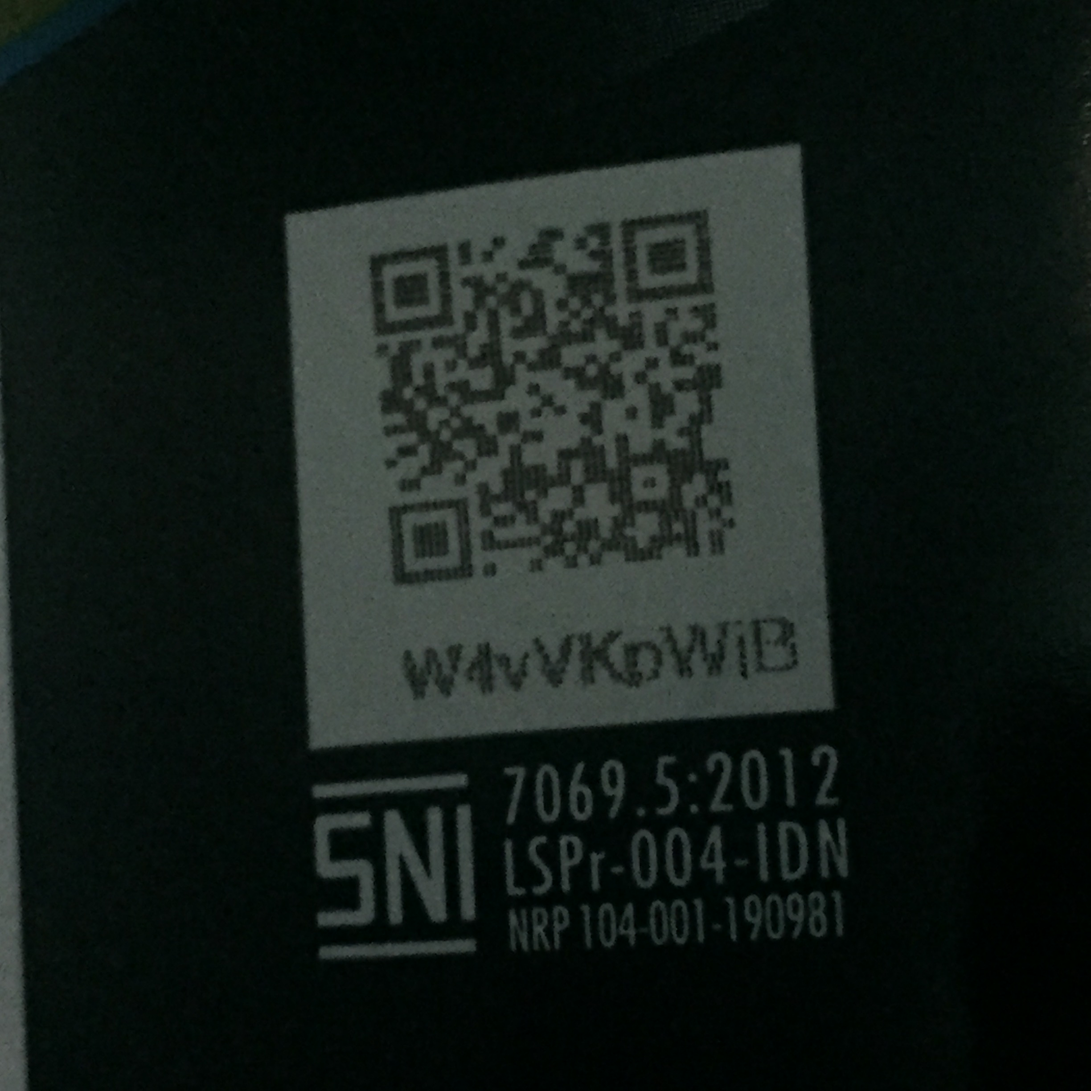QR-CODE: (360, 205, 746, 591)
